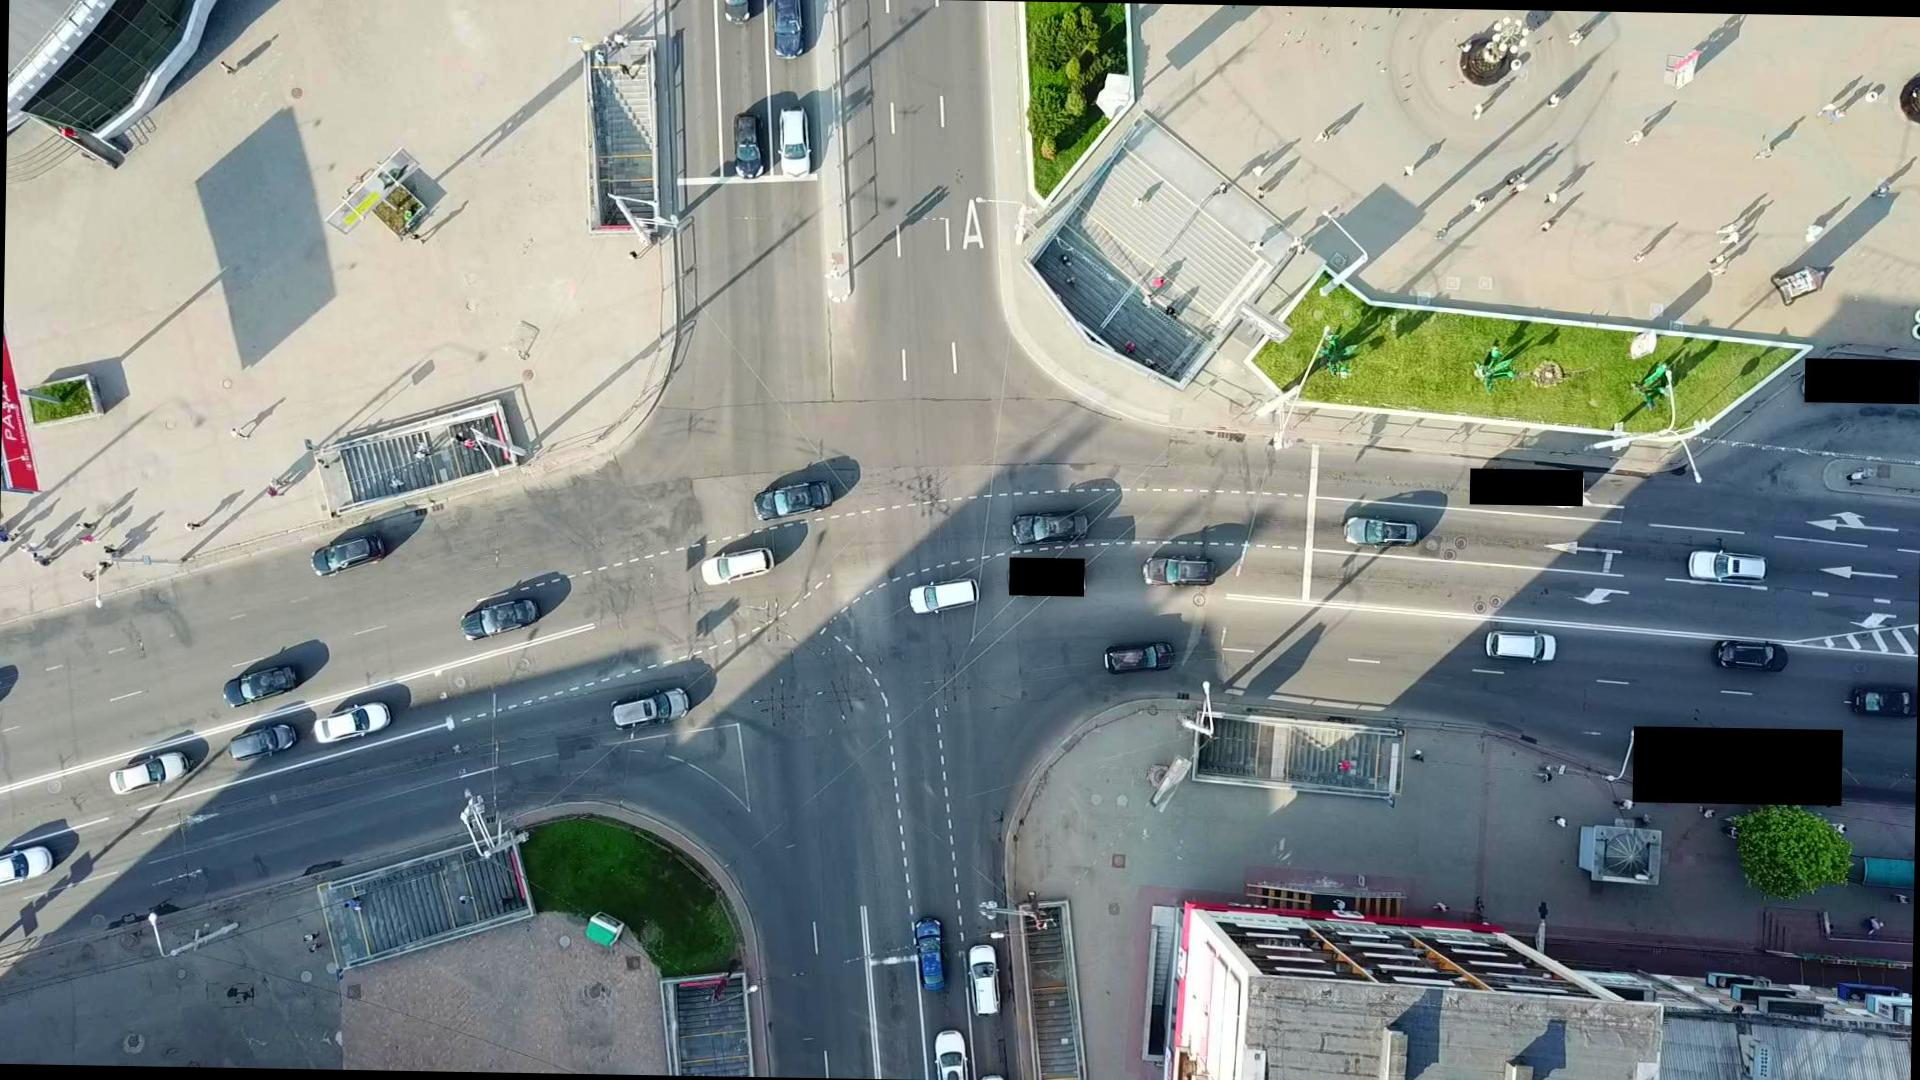vehicle: (611, 682, 690, 729), (107, 750, 189, 794), (754, 476, 836, 520), (219, 663, 295, 708), (460, 599, 538, 642), (311, 531, 386, 576), (313, 702, 392, 744), (702, 545, 771, 588), (1709, 637, 1789, 674), (907, 574, 977, 615), (1687, 549, 1768, 583), (225, 723, 295, 762), (967, 942, 1004, 1015), (913, 915, 947, 992), (1847, 683, 1915, 721), (1142, 554, 1216, 588), (1104, 640, 1174, 674), (778, 103, 810, 178), (1486, 629, 1557, 662), (732, 112, 766, 179), (1342, 517, 1418, 547), (1010, 512, 1088, 541)
